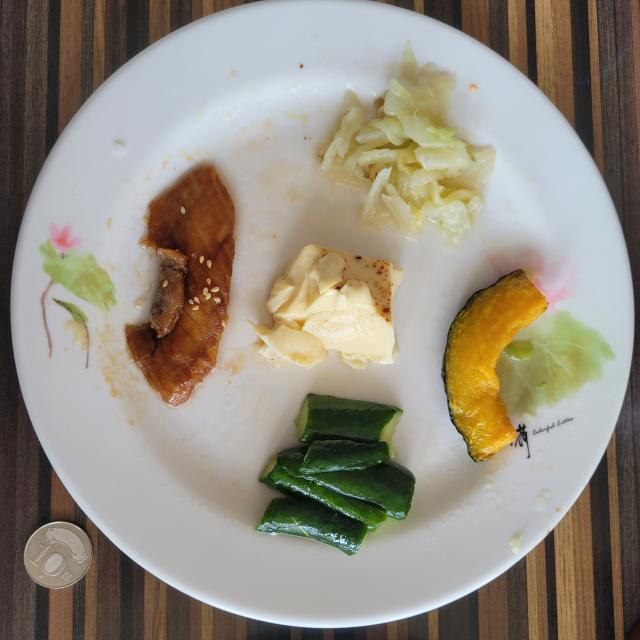Kabayaki sea bream fillet: (125, 166, 235, 405)
cabbage: (320, 50, 495, 239)
coin: (24, 521, 92, 589)
cucumber: (256, 394, 415, 555)
pumpkin: (442, 270, 548, 461)
